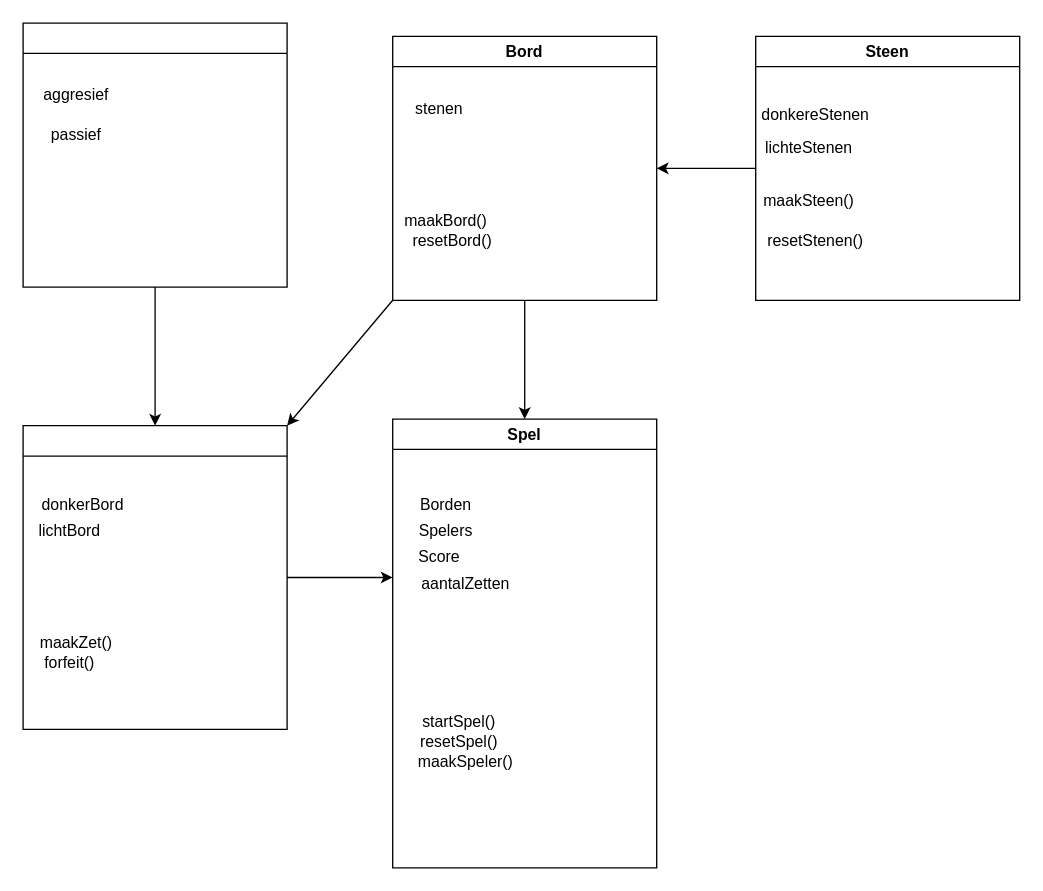
The diagram is 1043 pixels wide and 891 high, and some of its shapes have lost their labels. Here are the shapes that lost their labels. From the top down, the box of each, then its label:
(22, 22, 287, 287): Zet
(22, 424, 287, 729): Speler
